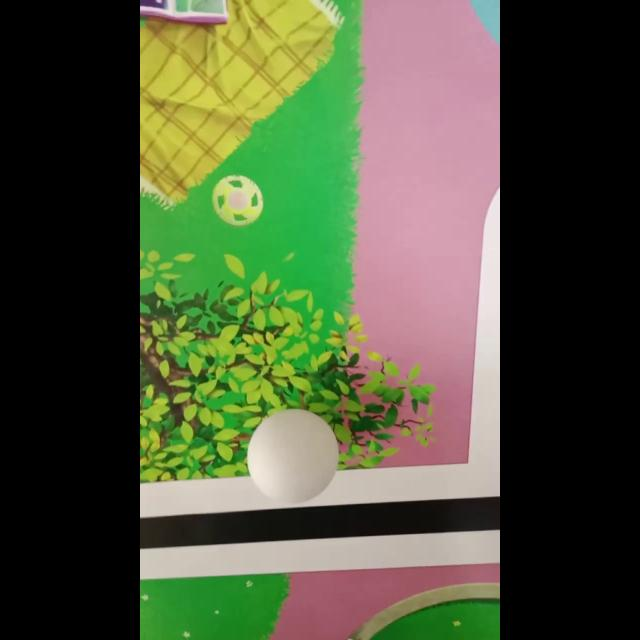white ball: (246, 407, 340, 503)
